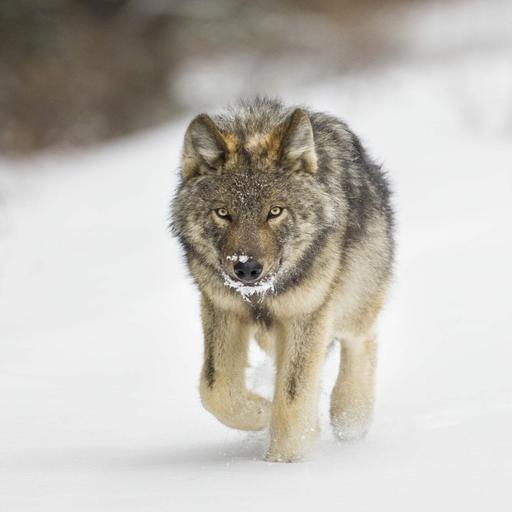Wolf: (165, 89, 398, 465)
